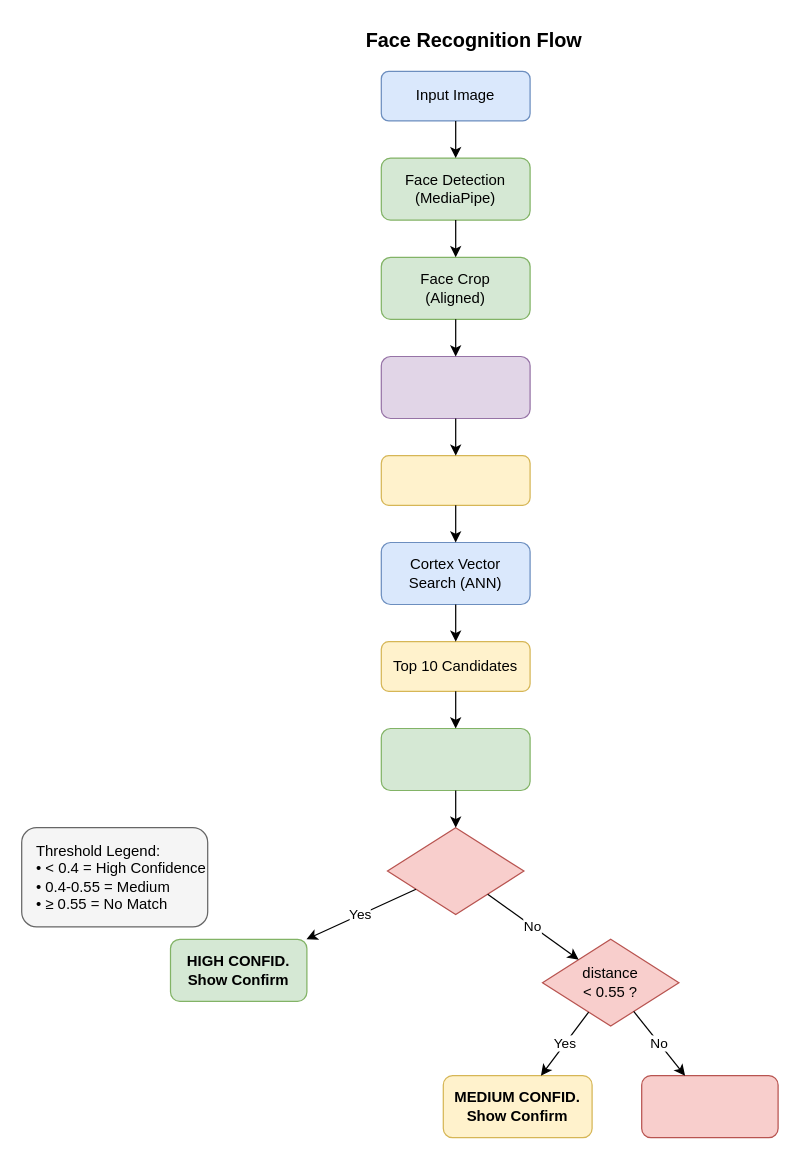
This 800x1159 diagram has some shape labels left out. Here are the shapes that lost their labels. From the top down, the centre of each, then its label:
the point at 455,386: Embedding Gen (dlib ResNet)
the point at 455,479: 128-dim Vector
the point at 455,758: Exact Distance Verification
the point at 455,870: distance < 0.4 ?
the point at 709,1106: NO MATCH New Customer
